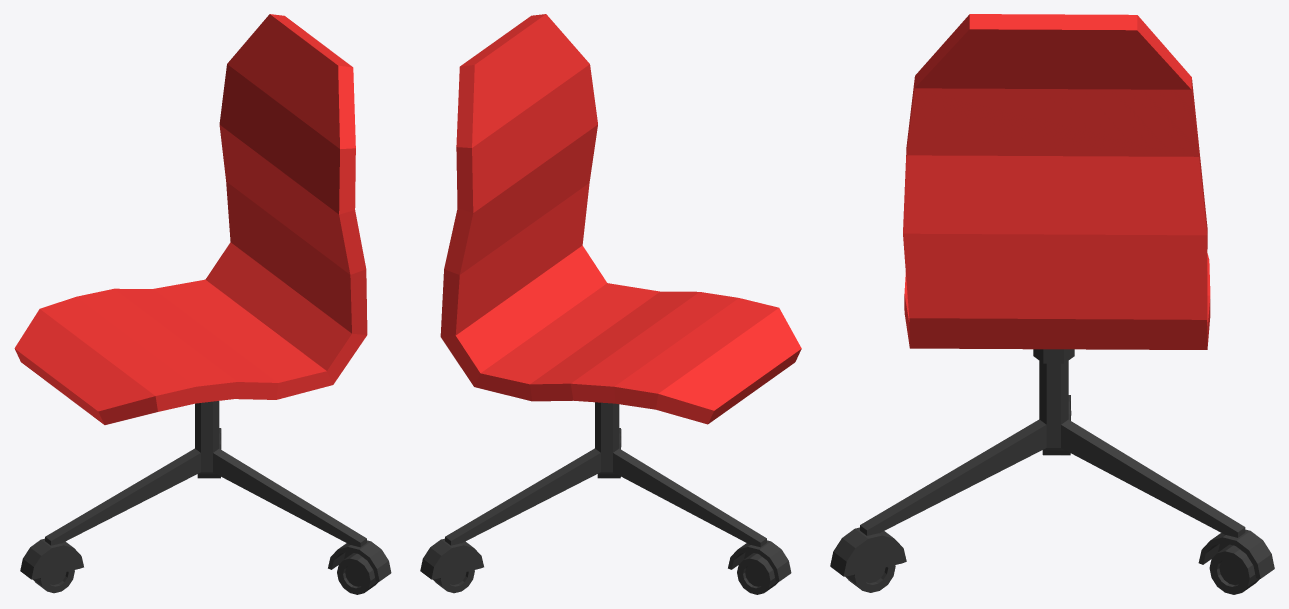
File: chair.fbx
3 views of the same model, side by side, from view 1: azimuth 30°, elevation 25°; view 2: azimuth 150°, elevation 25°; view 3: azimuth 270°, elevation 25° (orthographic). The views are drawn at different scales.
Parts seen in each view (by area): view 1: chair_export; view 2: chair_export; view 3: chair_export.
Part boxes in pixels (x1,y1,x2,y2): chair_export: (14, 14, 391, 594); chair_export: (420, 14, 801, 594); chair_export: (830, 14, 1274, 594).
Bounding box in the file's own units: 118 × 189 × 130.
